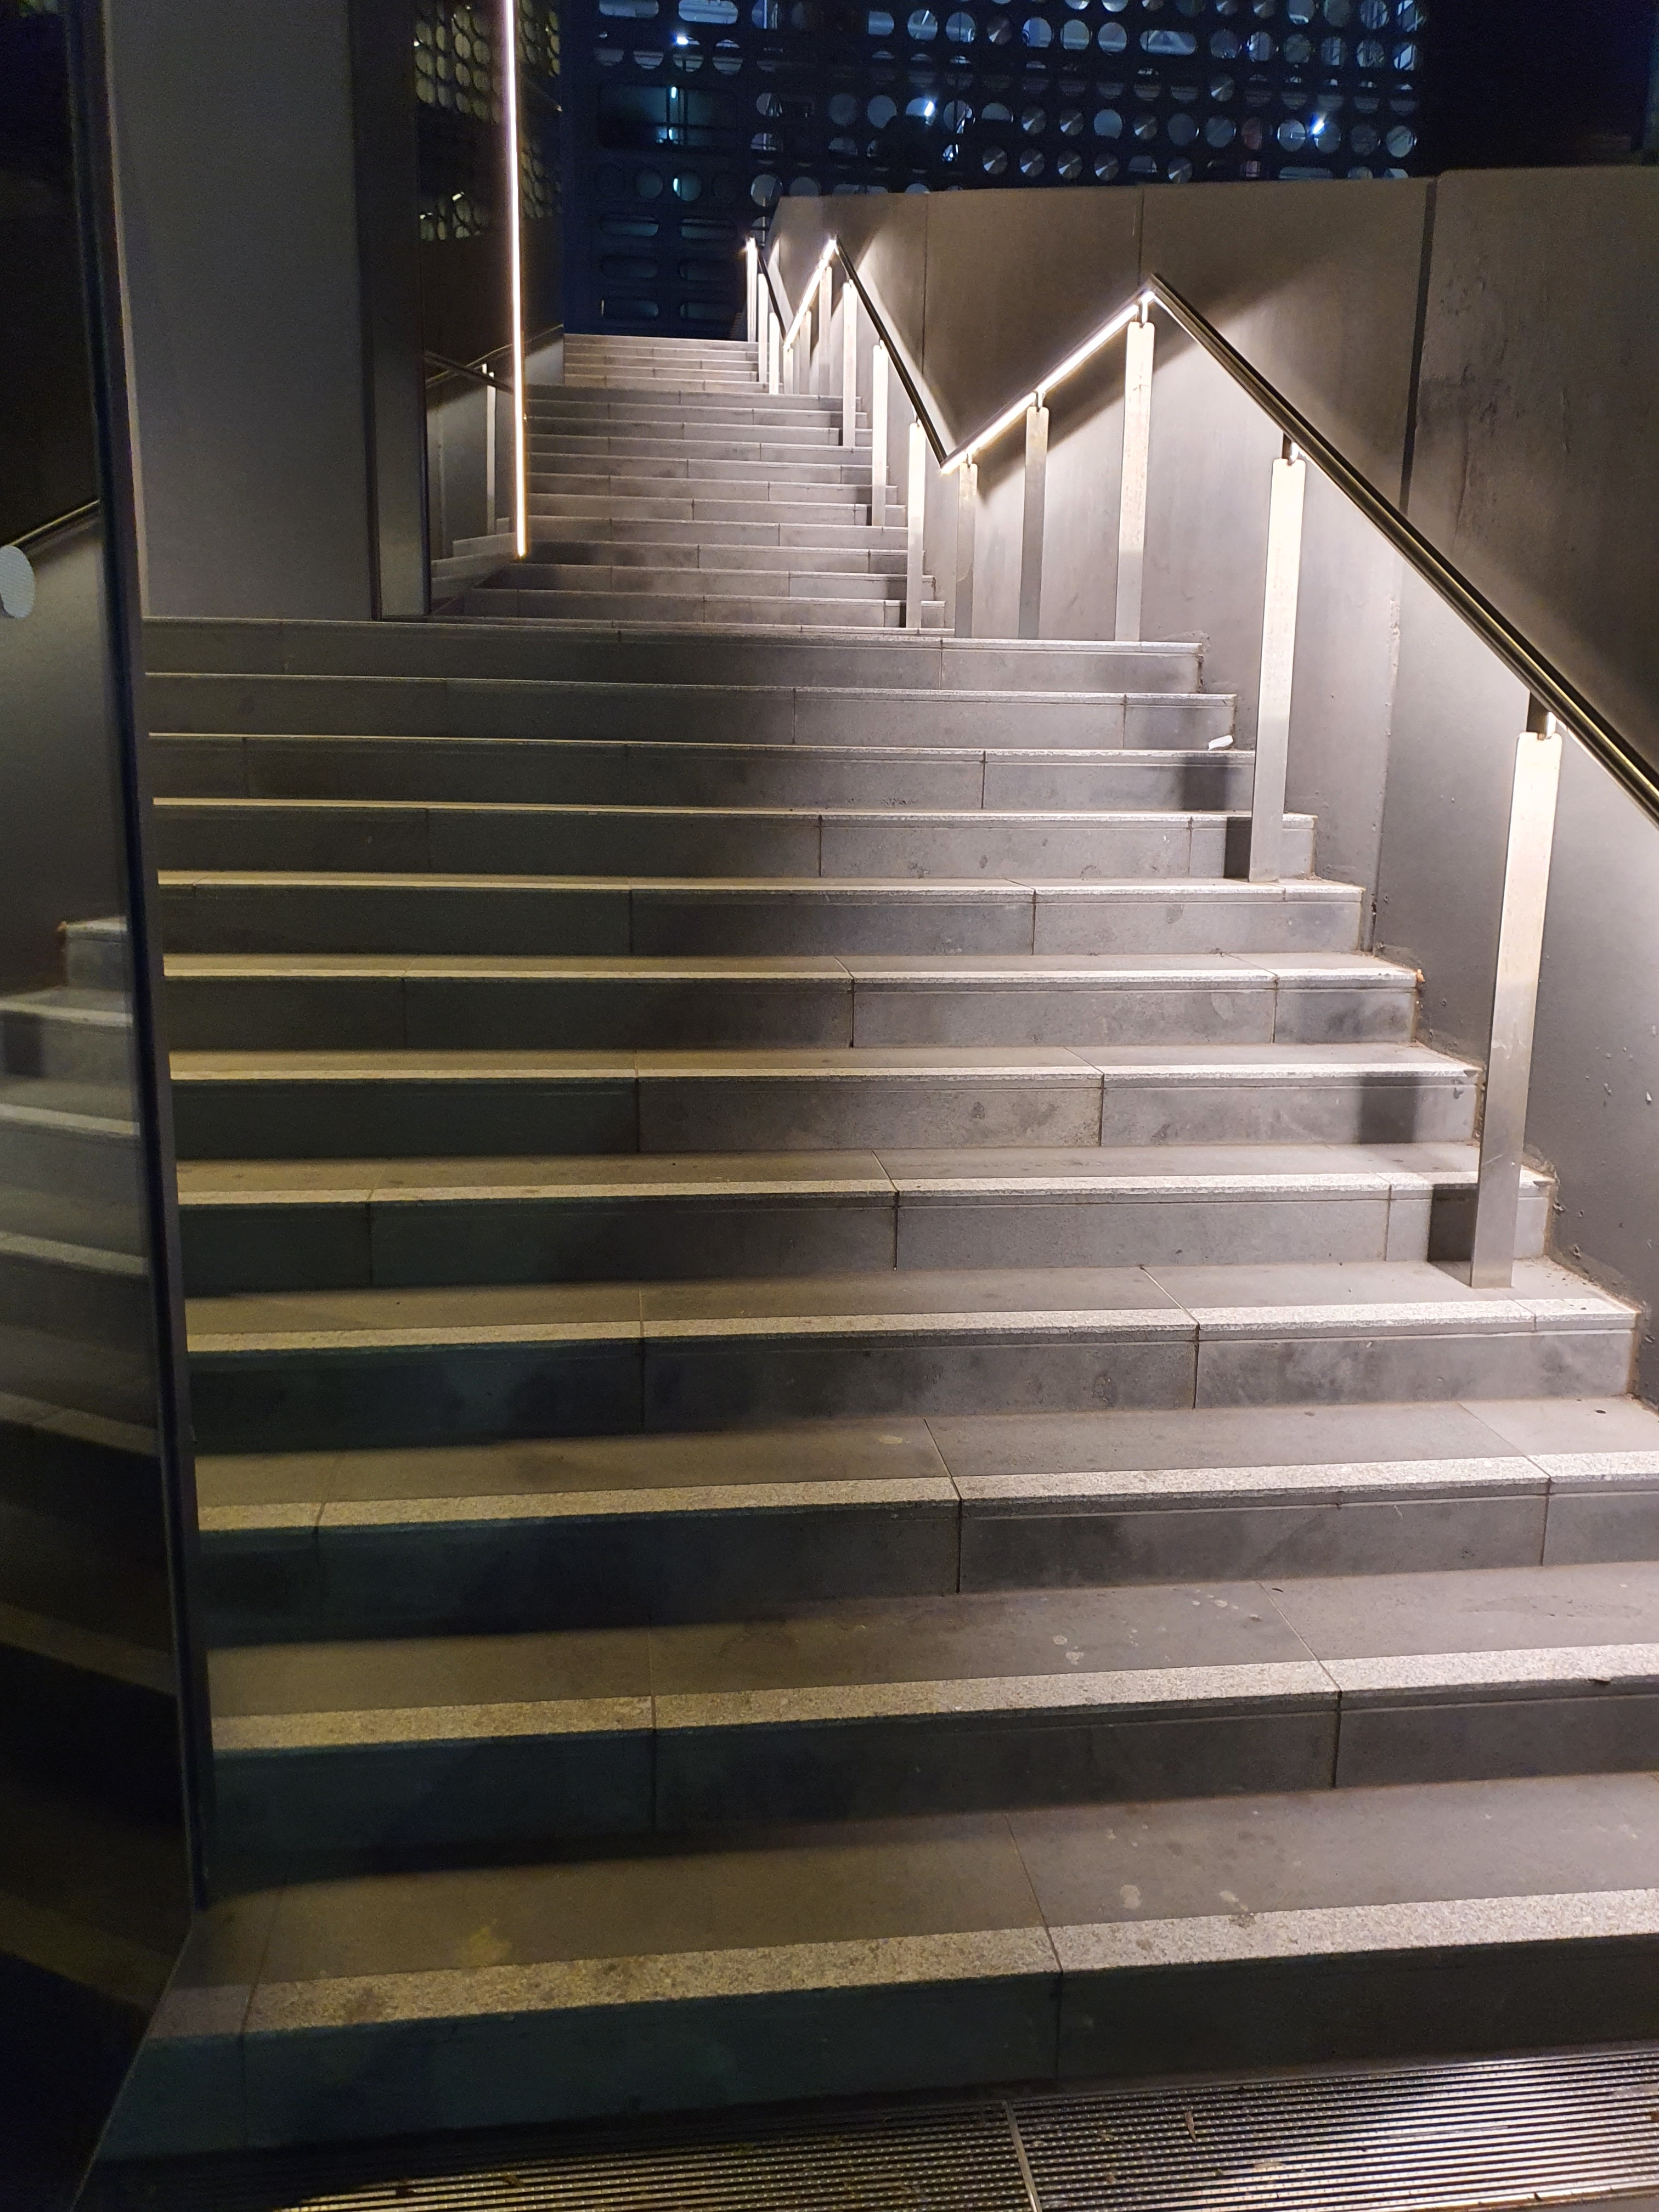upstairs: (253, 1118, 1464, 2188)
